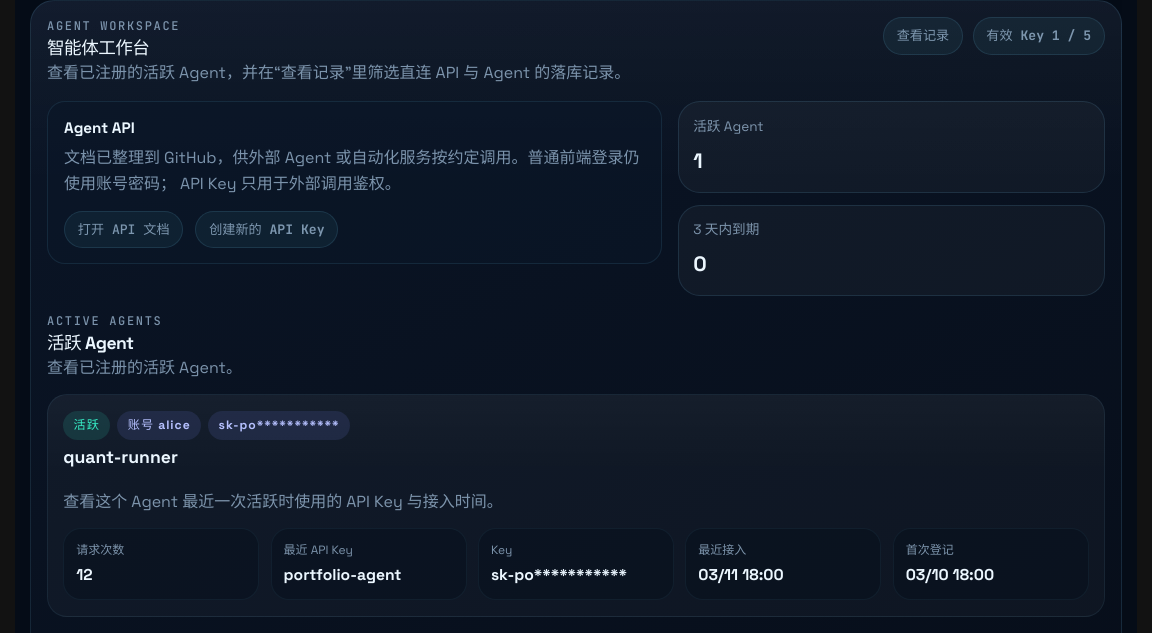
Test case: AgentExecutionAuditPanel › shows only registered agents on the main surface and keeps direct API records inside the records dialog
This screenshot has width=1152, height=633.
Check: the heading "quant-runner" is shown, box [63,446,178,468]
Check: the text "请求次数" is shown, box [76,542,124,558]
Step 1. Click the button "查看记录" → (923, 36), box [883,17,963,55]
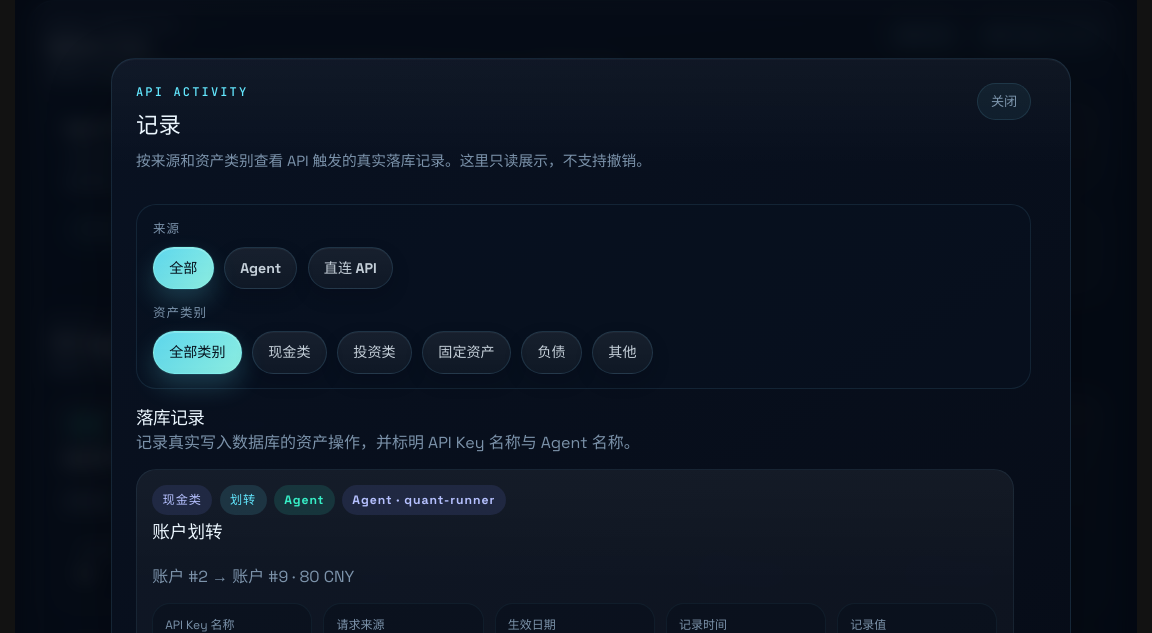
Check: the heading "记录" is shown, box [136,111,181,140]
Check: the heading "账户划转" is shown, box [152,521,223,543]
Check: the button "直连 API" is shown, box [308,247,393,290]
